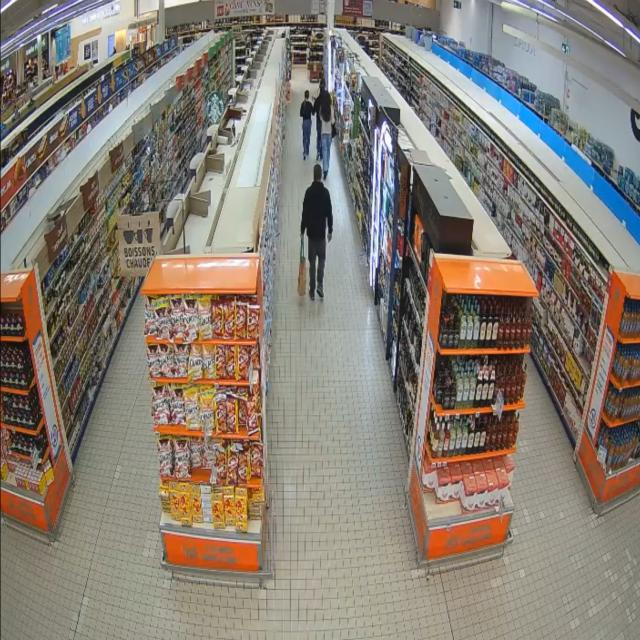bags: (298, 237, 306, 296), (332, 124, 337, 138)
hands: (328, 233, 332, 242), (300, 232, 304, 238)
person: (301, 164, 333, 300), (320, 91, 335, 179), (314, 81, 326, 160), (300, 91, 312, 159)
